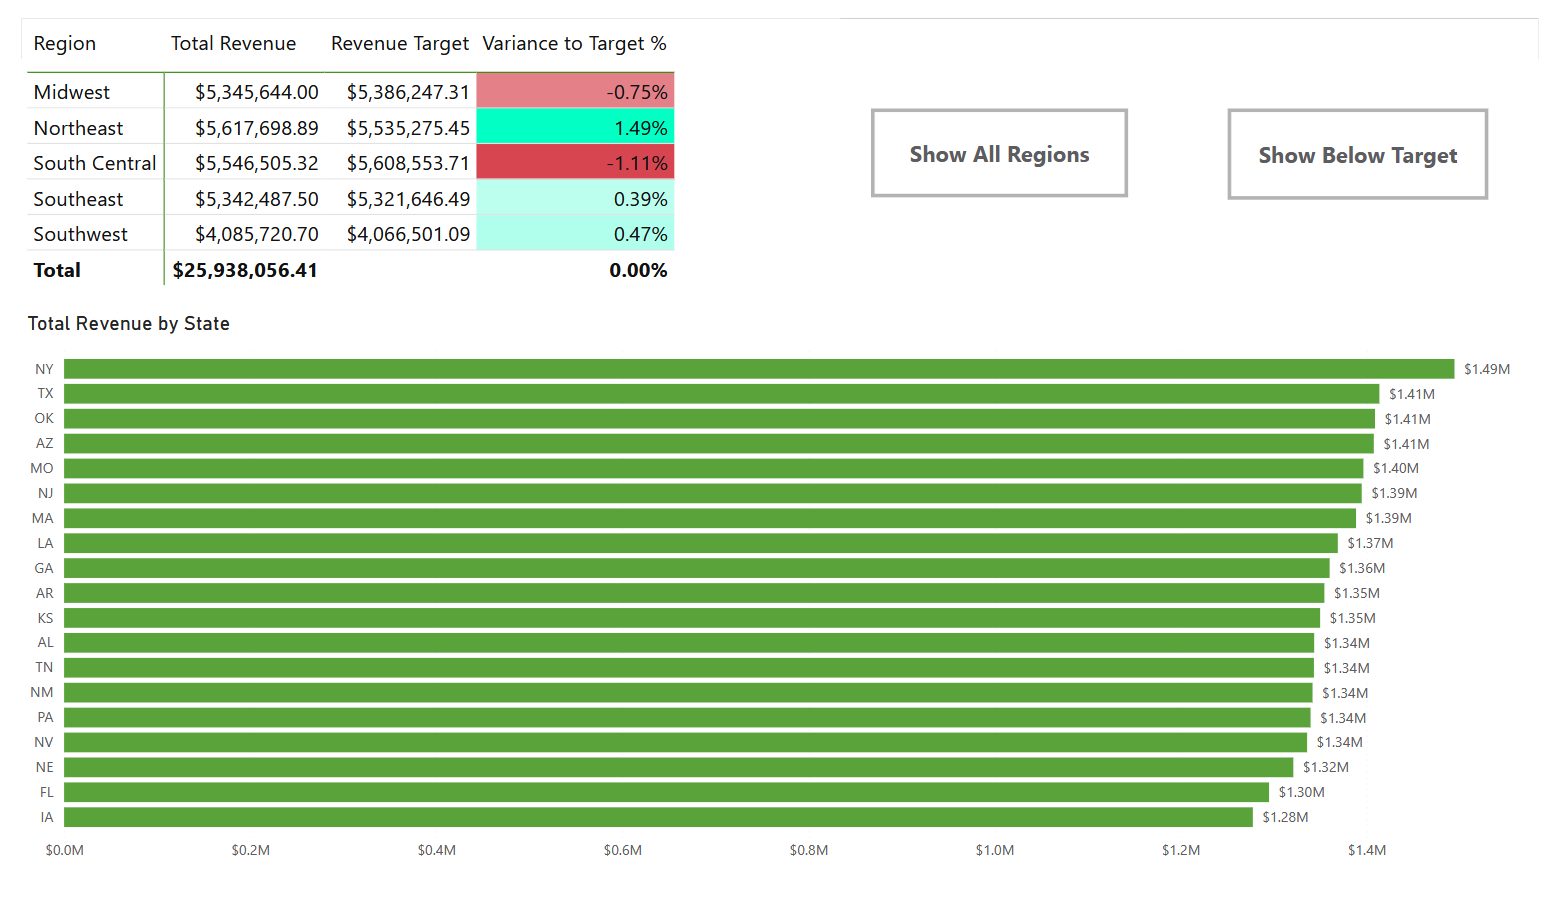

The page's visual inventory and layout, read from the dashboard file:
{"tool":"powerbi","page":{"name":"Regional Performance","canvas":[1280,720],"ordinal":3},"visuals":[{"type":"pivotTable","fields":{"Rows":["stores.Region"],"Values":["_Measures.Total Revenue","_Measures.Revenue Target","_Measures.Variance to Target %"]},"box":[0,0,578,246],"z":0},{"type":"clusteredBarChart","fields":{"Category":["stores.State"],"Y":["_Measures.Total Revenue"]},"box":[0,246.9,1280,472.9],"z":1000},{"type":"actionButton","title":"Below Target Only","box":[667,110,220,77],"z":2000},{"type":"actionButton","title":"Show All Regions","box":[980,112,217,75],"z":3000},{"type":"slicer","fields":{"Values":["Dim_Date.Year"]},"box":[667,0,220,65],"z":3001}]}

Visuals, with their boxes in screenshot pixels (x1, y1, x2, y2), scaled from the page's 1280x720 canvas onto the 1558x897 screenshot:
pivotTable - stores.Region x _Measures.Total Revenue: [x1=0, y1=0, x2=704, y2=306]
clusteredBarChart - stores.State x _Measures.Total Revenue: [x1=0, y1=308, x2=1557, y2=896]
"Below Target Only" actionButton: [x1=812, y1=137, x2=1080, y2=233]
"Show All Regions" actionButton: [x1=1193, y1=140, x2=1457, y2=233]
slicer - Dim_Date.Year: [x1=812, y1=0, x2=1080, y2=81]
